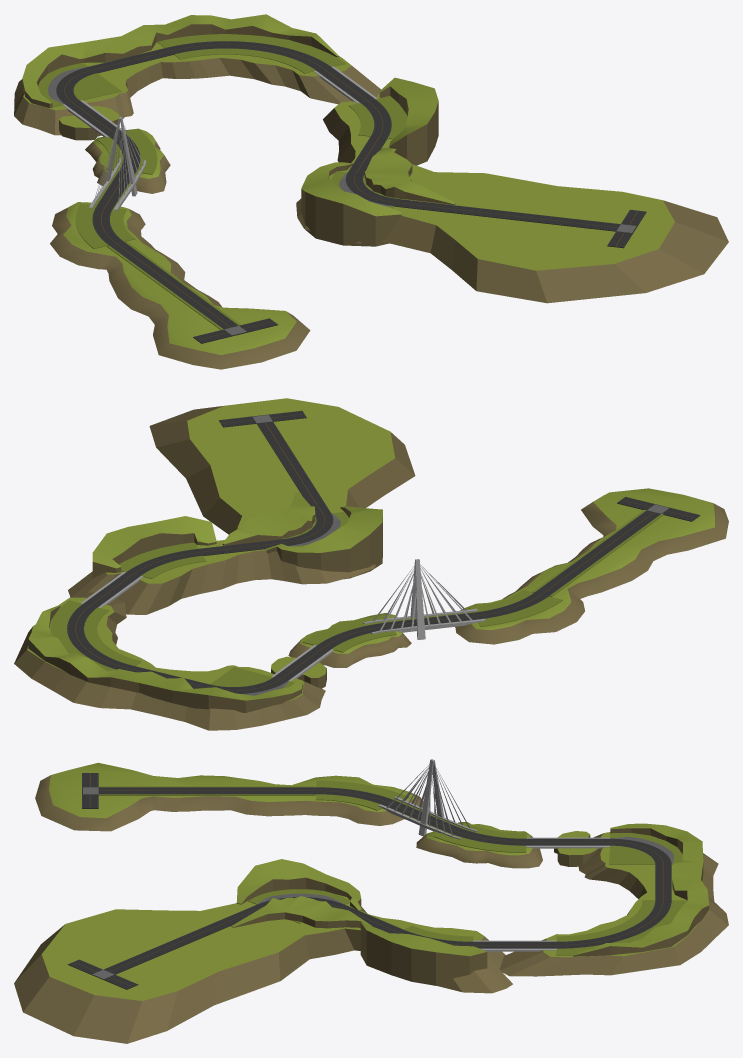
Rendered from level1.fbx.
3 renders of one model, top to bottom at view 1: azimuth 30°, elevation 25°; view 2: azimuth 150°, elevation 25°; view 3: azimuth 270°, elevation 25°, orthographic. The views are drawn at different scales.
Parts seen in each view (by area): view 1: level1_background, level1_road; view 2: level1_background, level1_road; view 3: level1_background, level1_road.
Boxes of the visible parts, bbox=[...] form: level1_background: bbox=[14, 14, 728, 369]; level1_road: bbox=[38, 34, 646, 343]; level1_background: bbox=[14, 398, 728, 730]; level1_road: bbox=[50, 410, 700, 695]; level1_background: bbox=[14, 759, 728, 1043]; level1_road: bbox=[67, 773, 687, 989].
Bounding box in the file's own units: 75165 × 11329 × 85690.
